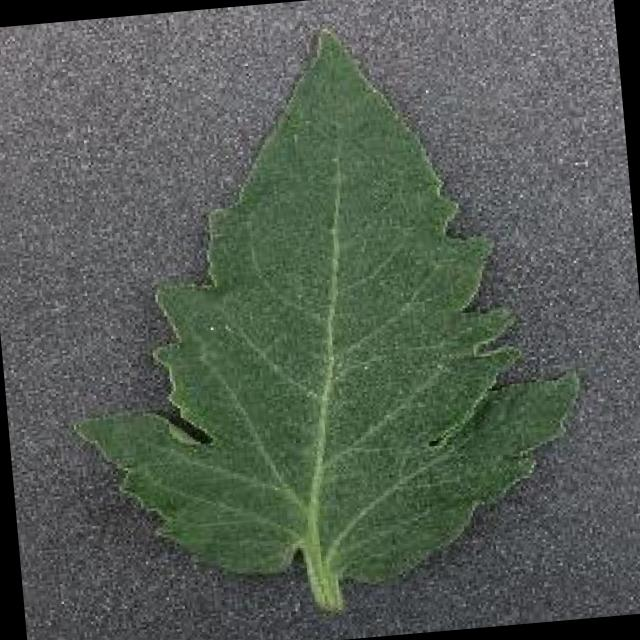Tomato_Healthy: (48, 7, 597, 600)
